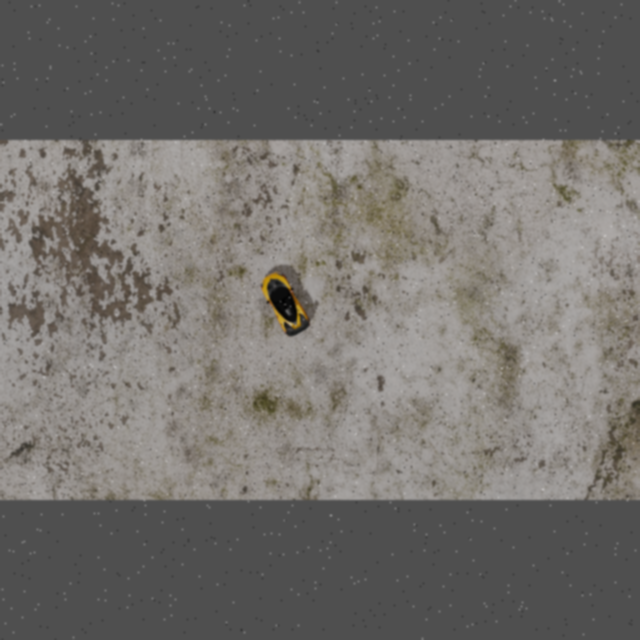car: (253, 266, 313, 340)
